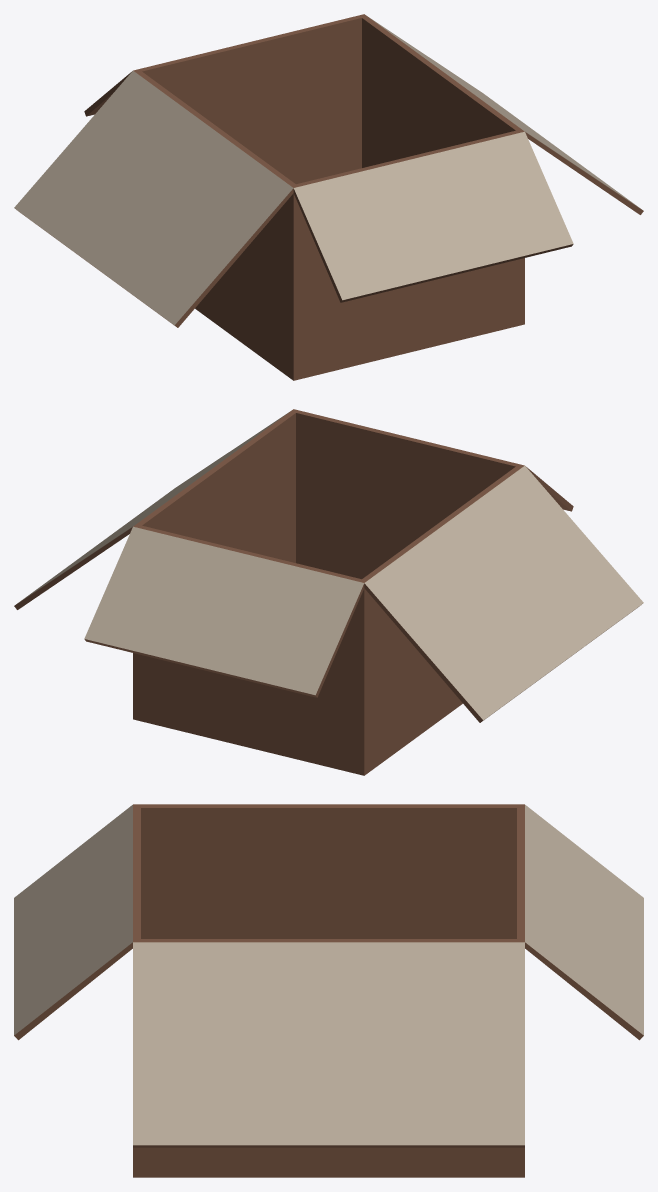
Rendered from SM_open_box.fbx.
3 renders of one model, top to bottom at view 1: azimuth 30°, elevation 25°; view 2: azimuth 150°, elevation 25°; view 3: azimuth 270°, elevation 25°, orthographic. The views are drawn at different scales.
Parts seen in each view (by area): view 1: open_box; view 2: open_box; view 3: open_box.
Part boxes in pixels (bbox=[...]): open_box: bbox=[14, 14, 643, 380]; open_box: bbox=[14, 409, 643, 775]; open_box: bbox=[14, 804, 643, 1177].
Bounding box in the file's own units: 193 × 75.66 × 184.
